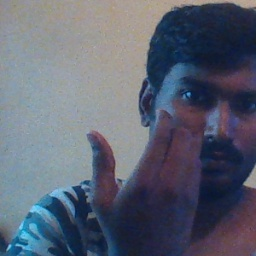U: (84, 109, 208, 241)
